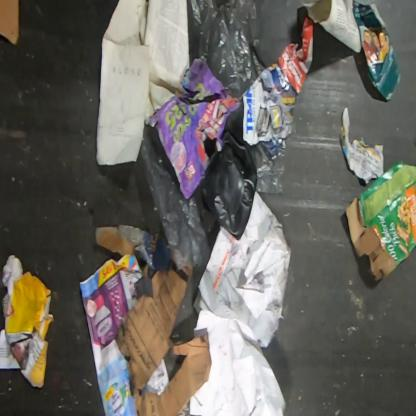cardboard: (118, 268, 210, 416), (342, 162, 415, 286), (0, 254, 55, 388), (94, 223, 174, 283), (0, 0, 20, 46)
rigid_plastic: (199, 134, 257, 238)
soft_plastic: (139, 122, 221, 271), (187, 0, 268, 99), (247, 143, 287, 195)
